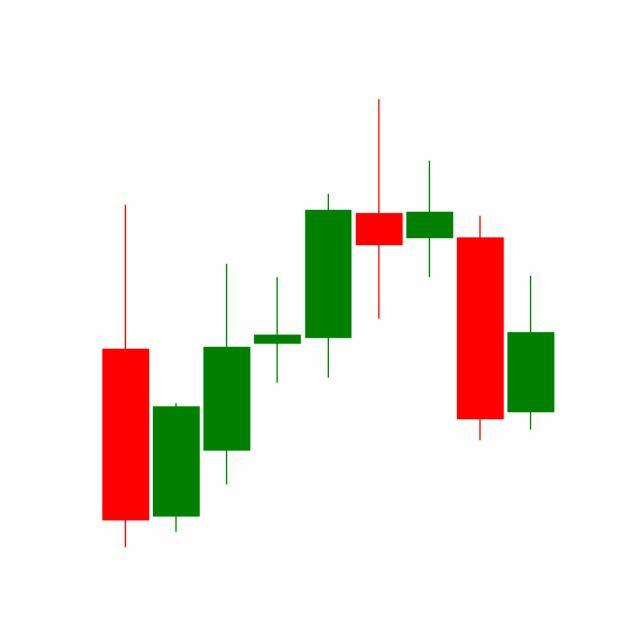Hikkake Pattern: (252, 100, 506, 447)
